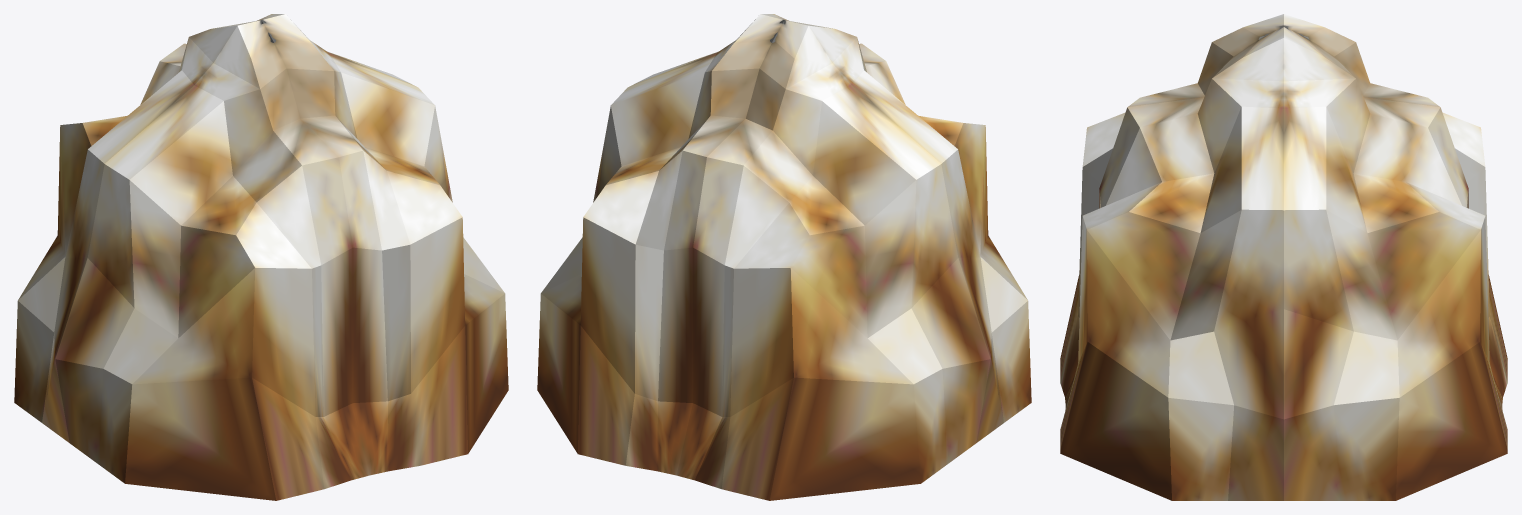
Rendered from Poly_Gold_Rock_02_Snow.obj.
The picture shows the model from 3 angles, left to right: view 1: azimuth 30°, elevation 25°; view 2: azimuth 150°, elevation 25°; view 3: azimuth 270°, elevation 25°; orthographic projection.
Visible parts, largest first — view 1: Cube; view 2: Cube; view 3: Cube.
Part boxes in pixels (x1,y1,x2,y2): Cube: (14, 14, 508, 500); Cube: (537, 14, 1031, 500); Cube: (1060, 14, 1507, 500).
Bounding box in the file's own units: 0.86 × 0.752 × 0.8.
Materials: 1 (1 with a texture image).
